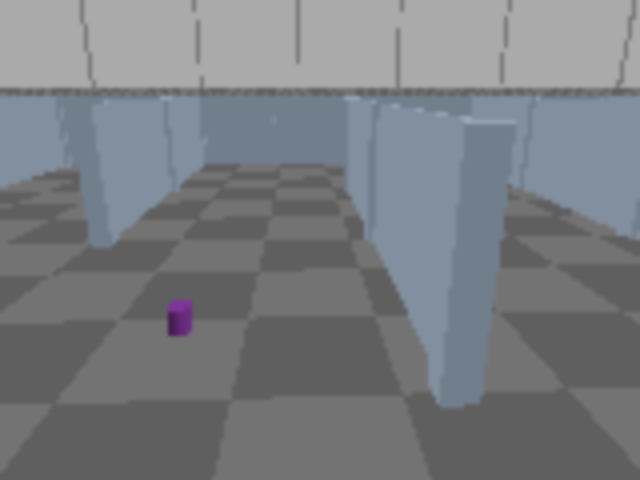puck: (167, 301, 193, 335)
